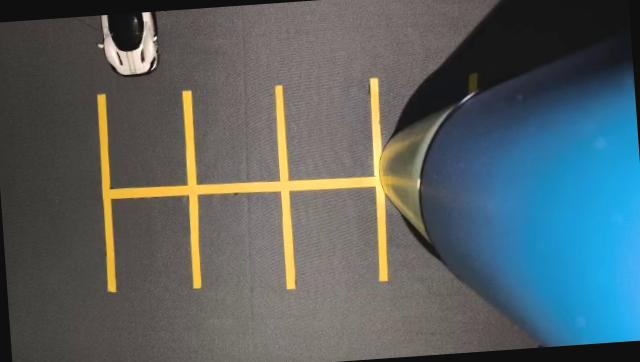toy_car: (84, 9, 194, 103)
